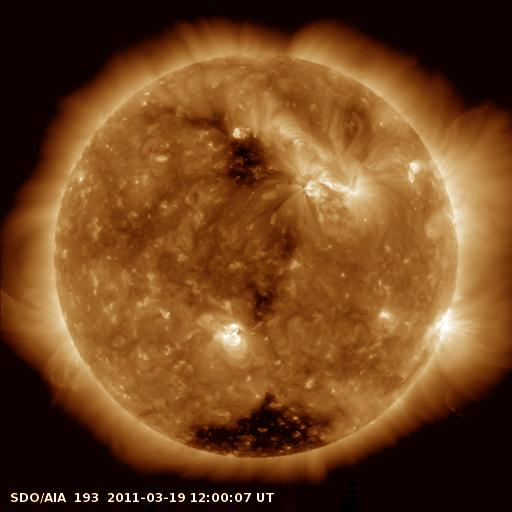coronal_hole: (182, 395, 355, 457), (201, 115, 274, 184)
